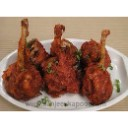chicken_lollipop: (5, 16, 41, 102), (45, 17, 80, 97), (83, 18, 114, 103)
